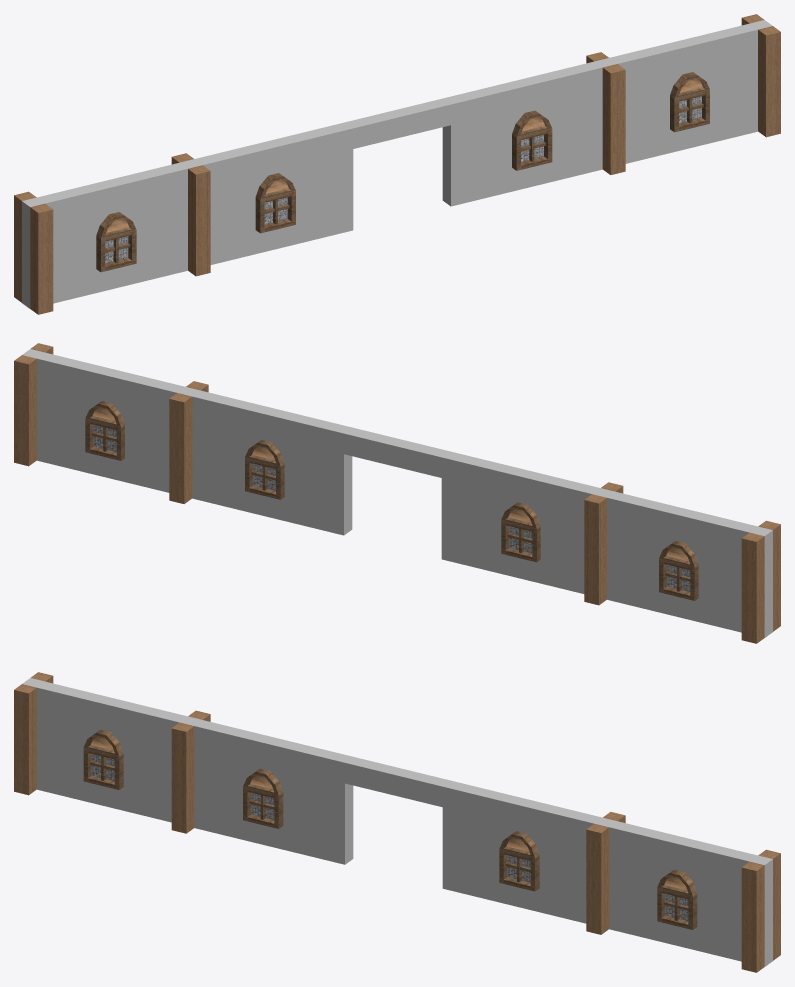
File: Butcher_sidewall2.fbx
3 renders of one model, top to bottom at view 1: azimuth 30°, elevation 25°; view 2: azimuth 150°, elevation 25°; view 3: azimuth 330°, elevation 25°, orthographic.
Parts seen in each view (by area): view 1: Butcher_sidewall2; view 2: Butcher_sidewall2; view 3: Butcher_sidewall2.
Part boxes in pixels (x1,y1,x2,y2): Butcher_sidewall2: (14,14,780,314); Butcher_sidewall2: (14,343,780,643); Butcher_sidewall2: (14,672,780,972).
Bounding box in the file's own units: 182 × 23.83 × 10.29.
